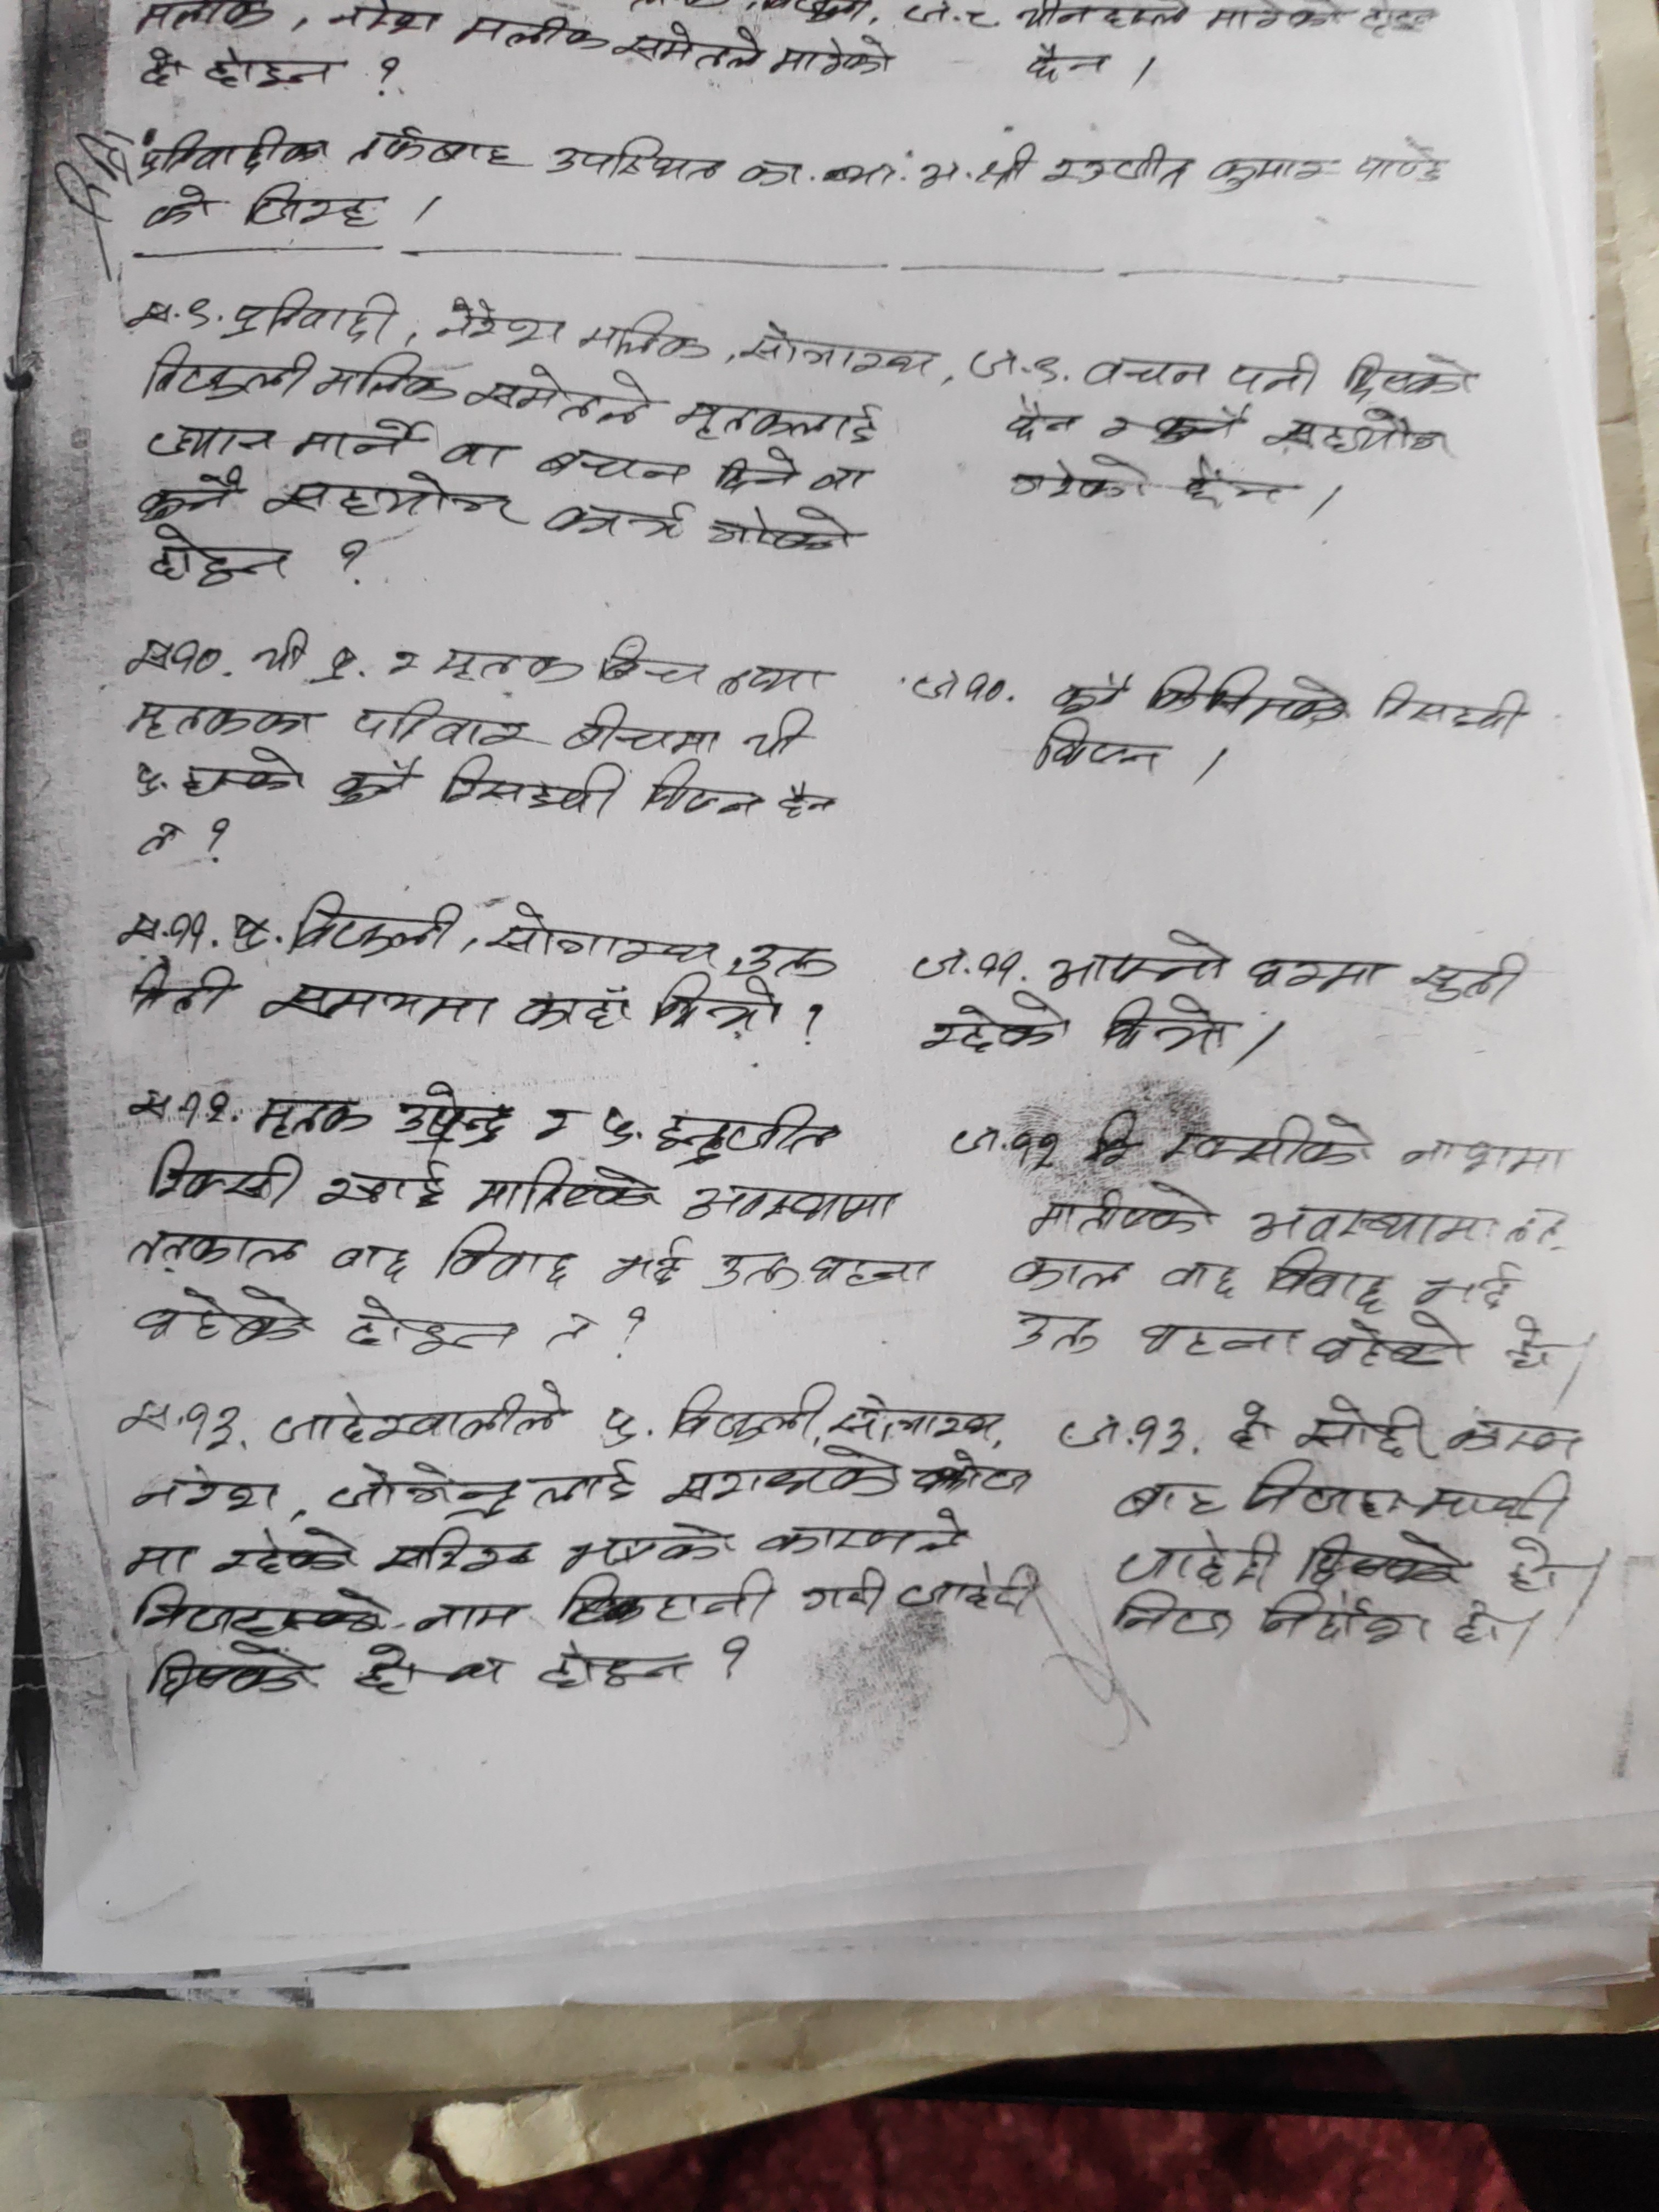text: (1234, 1458, 1575, 1531), (268, 1376, 570, 1453), (1246, 1195, 1572, 1254), (322, 1461, 636, 1519), (483, 900, 720, 972), (657, 1446, 904, 1510), (261, 470, 521, 529), (254, 979, 504, 1040), (462, 359, 653, 437), (127, 1583, 387, 1641), (737, 315, 939, 388), (436, 751, 633, 822), (674, 385, 892, 449), (129, 1284, 317, 1357), (1161, 1111, 1375, 1172), (1260, 401, 1462, 465), (141, 340, 319, 411), (1150, 667, 1347, 732), (1040, 927, 1234, 991), (652, 1101, 840, 1167), (753, 1503, 969, 1561), (1256, 1587, 1434, 1656), (291, 890, 464, 961), (1025, 1183, 1220, 1245), (464, 1158, 660, 1219), (148, 1134, 307, 1209), (345, 1291, 519, 1359), (552, 1578, 779, 1630), (669, 1376, 838, 1446), (221, 284, 397, 350), (427, 1221, 575, 1299), (124, 1219, 317, 1278), (342, 113, 528, 174), (148, 1644, 324, 1709), (1114, 1526, 1284, 1592), (681, 1179, 904, 1230), (545, 132, 725, 195), (1298, 1529, 1473, 1592), (350, 693, 538, 751), (125, 745, 307, 803), (911, 993, 1082, 1054), (537, 1634, 688, 1702), (134, 124, 331, 176), (558, 1522, 741, 1578), (390, 1078, 523, 1153), (1370, 676, 1534, 735), (145, 523, 295, 587), (1265, 1245, 1394, 1318), (1293, 1393, 1429, 1461), (559, 704, 723, 759), (610, 19, 767, 77), (892, 1564, 1049, 1622), (1026, 714, 1166, 779), (207, 1526, 362, 1583), (835, 1393, 1009, 1444), (653, 967, 786, 1033), (706, 502, 863, 557), (540, 489, 692, 547), (314, 348, 457, 409), (1310, 1317, 1471, 1371), (371, 1524, 537, 1576), (1103, 988, 1230, 1055), (124, 1461, 282, 1515), (533, 441, 695, 493), (120, 700, 322, 742), (1007, 451, 1152, 509), (1340, 352, 1483, 409), (117, 1392, 244, 1456), (450, 9, 610, 59), (1399, 1134, 1577, 1179), (579, 303, 709, 364), (317, 1157, 451, 1216), (640, 758, 765, 820), (1053, 1409, 1194, 1465), (1044, 141, 1194, 193), (1134, 1318, 1300, 1366), (427, 643, 586, 691), (1406, 949, 1530, 1010), (242, 179, 382, 233), (436, 296, 568, 352), (1105, 1590, 1237, 1646), (291, 411, 432, 463), (202, 44, 349, 92), (1178, 455, 1295, 514), (910, 1447, 1035, 1501), (1110, 1472, 1230, 1527), (1413, 1256, 1523, 1317), (1004, 1249, 1134, 1299), (134, 465, 239, 528), (511, 986, 636, 1038), (831, 150, 964, 199), (598, 634, 709, 691), (129, 961, 242, 1017), (1443, 1414, 1582, 1460), (1206, 150, 1340, 197), (1248, 949, 1380, 996), (772, 28, 896, 77), (946, 1123, 1068, 1172), (1080, 352, 1215, 395), (598, 1228, 688, 1292), (805, 1249, 934, 1294), (1352, 132, 1453, 190), (122, 1080, 237, 1130), (145, 420, 279, 462), (251, 1096, 375, 1141), (131, 2, 281, 38), (699, 1244, 803, 1296), (122, 632, 230, 683), (1011, 2, 1192, 31), (795, 1564, 885, 1623), (708, 444, 803, 500), (1495, 1527, 1574, 1595), (411, 1592, 528, 1637), (957, 340, 1065, 388), (1225, 348, 1324, 401), (1002, 1308, 1108, 1357), (1002, 392, 1089, 449), (112, 909, 218, 956), (725, 655, 833, 700), (910, 664, 1009, 712), (1018, 38, 1119, 85), (324, 2, 439, 42), (908, 949, 1026, 988), (737, 941, 845, 982), (329, 756, 420, 805), (737, 705, 816, 761), (1084, 1103, 1148, 1169), (349, 1642, 415, 1705), (1155, 1254, 1246, 1299), (1049, 669, 1133, 718), (127, 291, 216, 336), (1448, 1595, 1511, 1658), (139, 181, 216, 232), (119, 1534, 197, 1581), (974, 134, 1037, 192), (329, 1238, 410, 1282), (1493, 1324, 1561, 1374), (437, 432, 518, 472), (730, 152, 807, 193), (810, 458, 882, 500), (251, 629, 312, 678), (538, 1308, 605, 1352), (134, 40, 188, 91), (1223, 1399, 1276, 1449), (772, 780, 836, 820), (132, 820, 192, 862), (594, 1099, 638, 1150), (528, 1103, 579, 1143), (598, 1406, 638, 1449)
